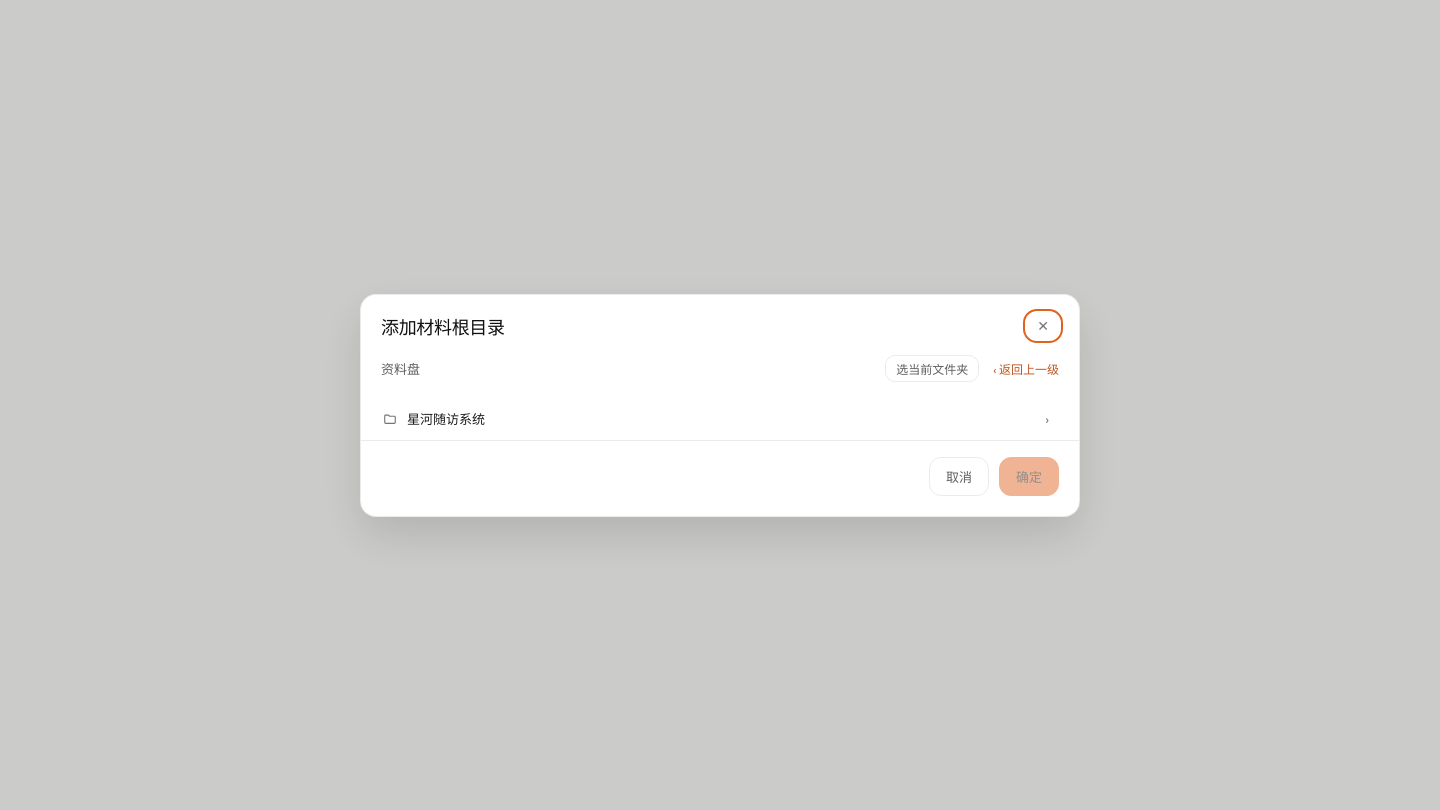
Test case: MaterialRootPickerModal › 进下一级还没回来就点「返回上一级」：慢回来的那一级不盖掉后点的
Step 1. Click the button named "进入 星河随访系统" → point(1047, 418), box x1=1037 y1=408 x2=1057 y2=430
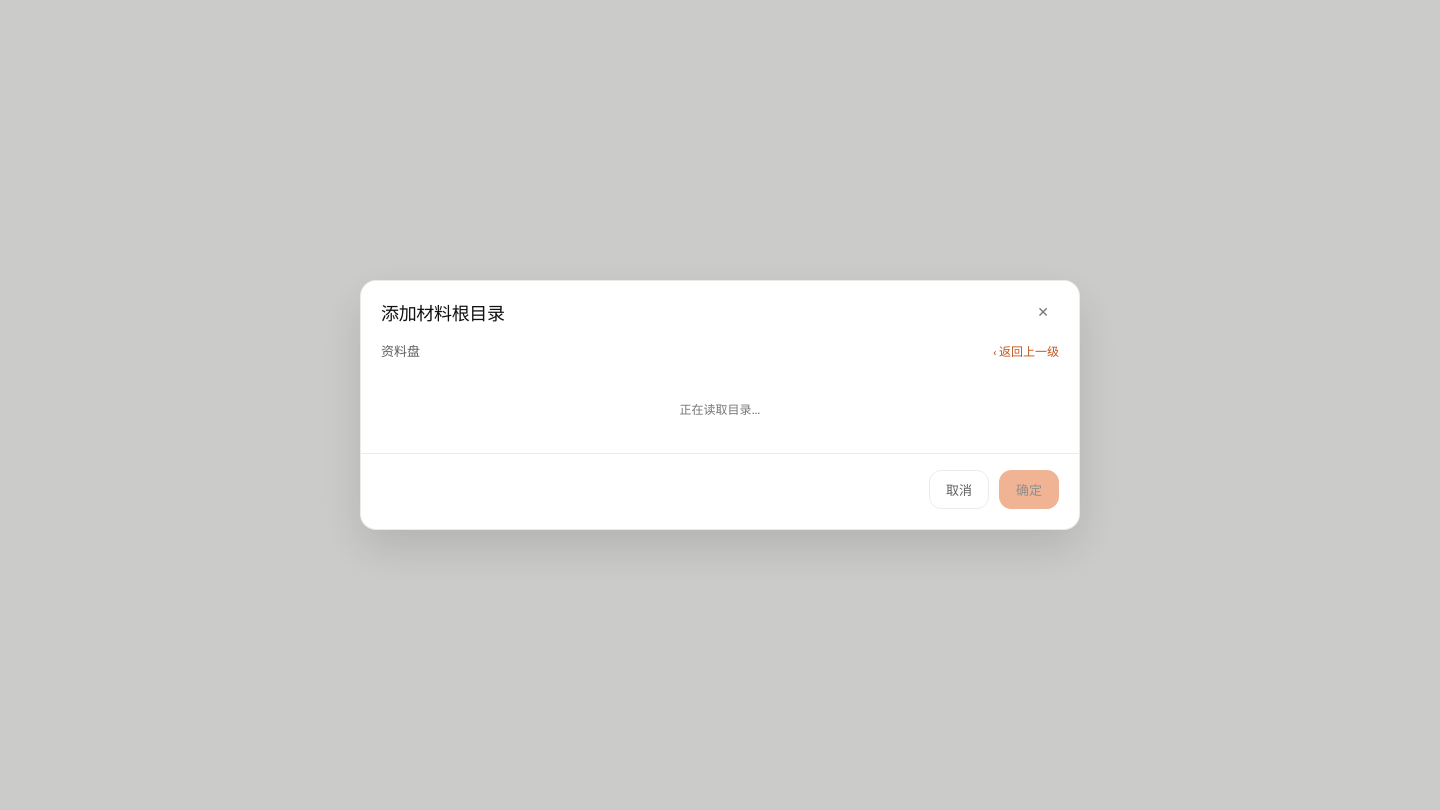
Step 2. Click the button "‹ 返回上一级" → point(1026, 350), box x1=993 y1=342 x2=1059 y2=359
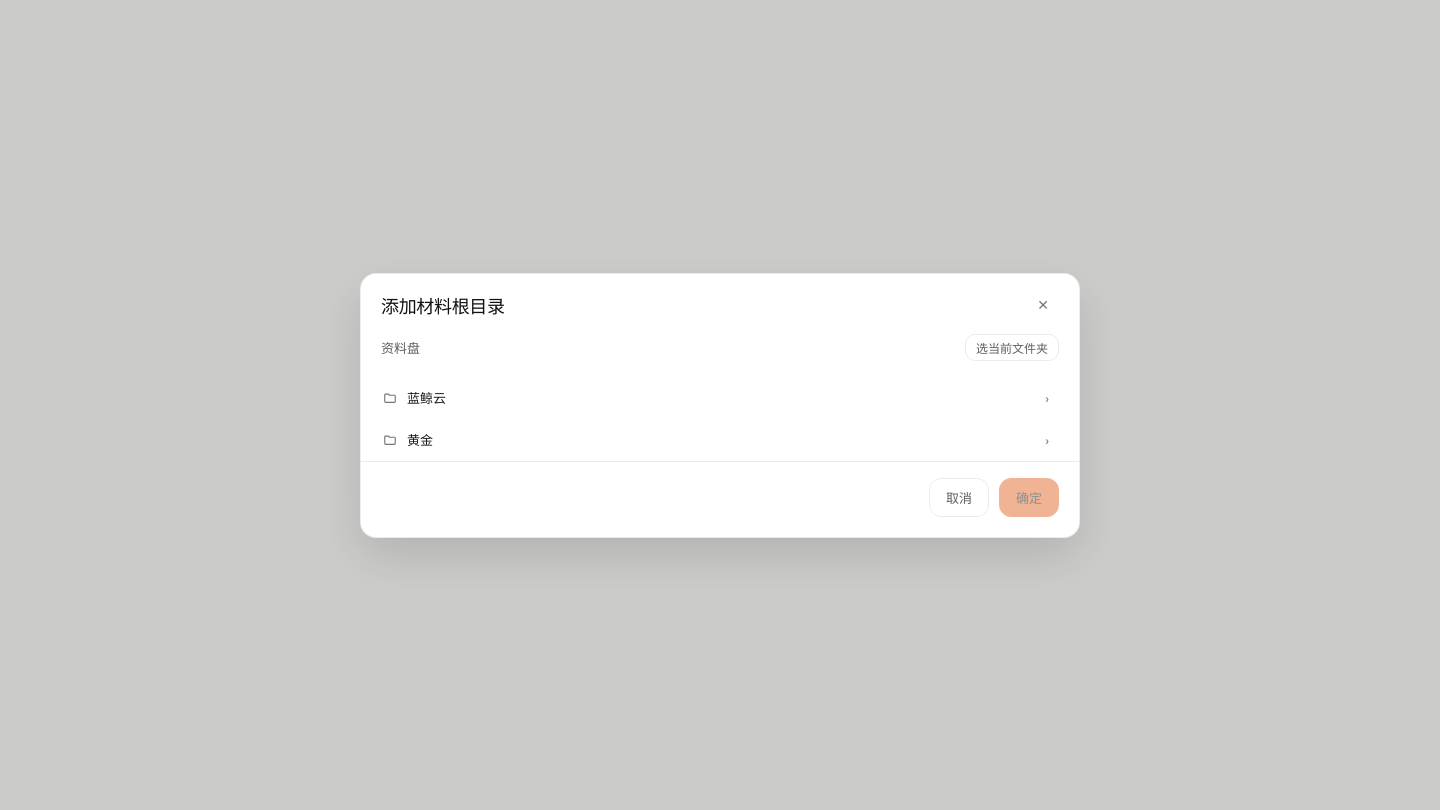
Expected: the text "黄金" is shown, x1=383 y1=430 x2=433 y2=449
